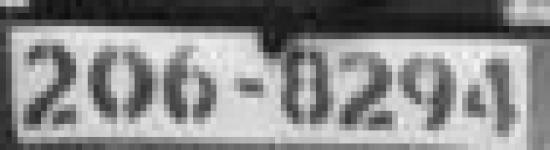-: (228, 69, 267, 103)
0: (82, 38, 160, 128)
2: (19, 38, 84, 136), (334, 47, 401, 136)
4: (464, 47, 524, 141)
6: (164, 35, 223, 133)
8: (280, 42, 336, 132)
9: (400, 47, 463, 141)
